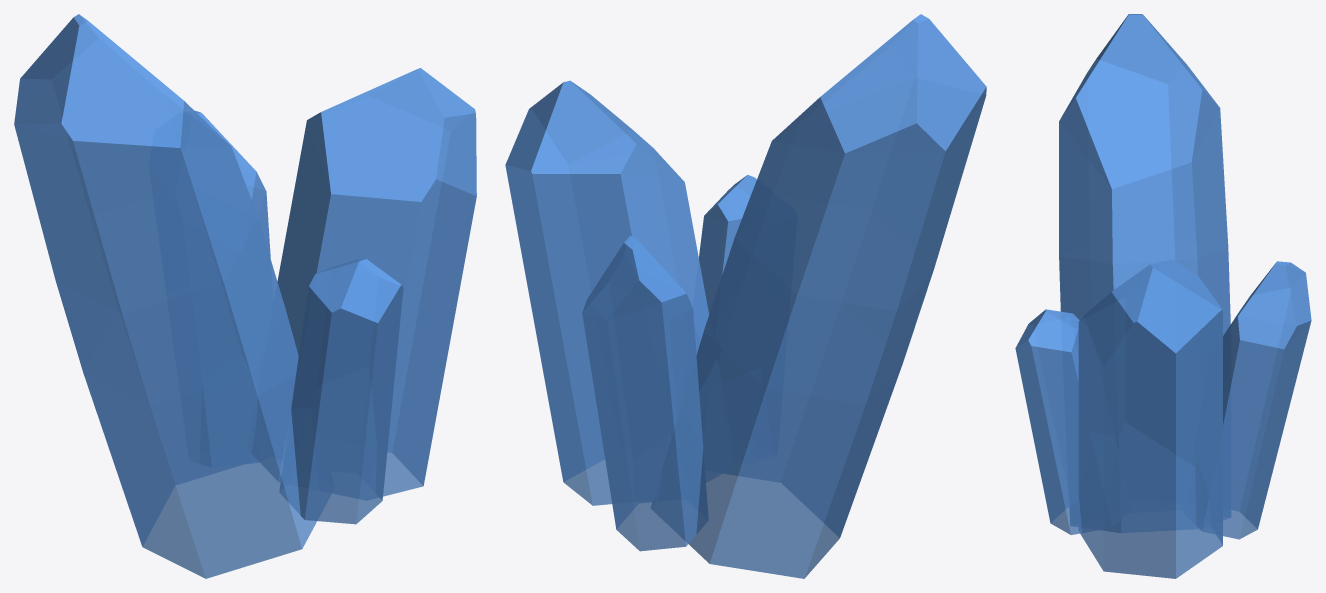
Rendered from Crystals_l_04.fbx.
3 views of the same model, side by side, from view 1: azimuth 30°, elevation 25°; view 2: azimuth 150°, elevation 25°; view 3: azimuth 270°, elevation 25° (orthographic). The views are drawn at different scales.
Visible parts, largest first — view 1: Crystals_l_04; view 2: Crystals_l_04; view 3: Crystals_l_04.
Boxes of the visible parts, bbox=[...] form: Crystals_l_04: bbox=[14, 14, 476, 578]; Crystals_l_04: bbox=[505, 14, 986, 578]; Crystals_l_04: bbox=[1015, 14, 1311, 578].
Size of the model in its own units: 337 by 417 by 242.
